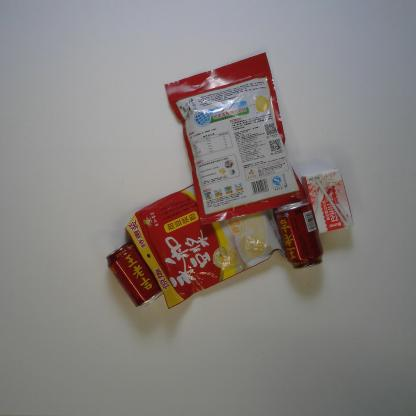Drink: (105, 238, 164, 308), (273, 198, 324, 270)
Instant Drink: (163, 50, 307, 227), (122, 182, 287, 312)
Milk: (300, 163, 356, 238)
